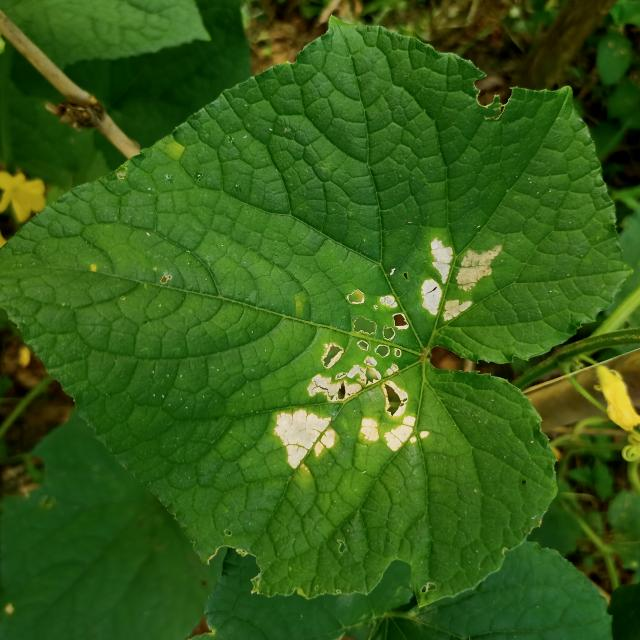disease_cucumber: (262, 280, 436, 475), (409, 229, 504, 323)
